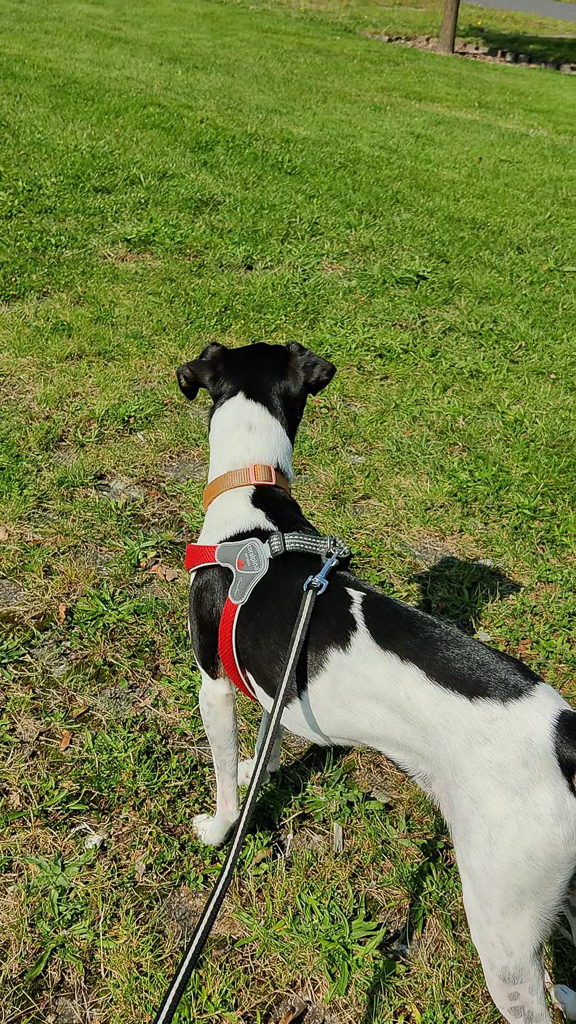Dog: (140, 310, 576, 1024)
